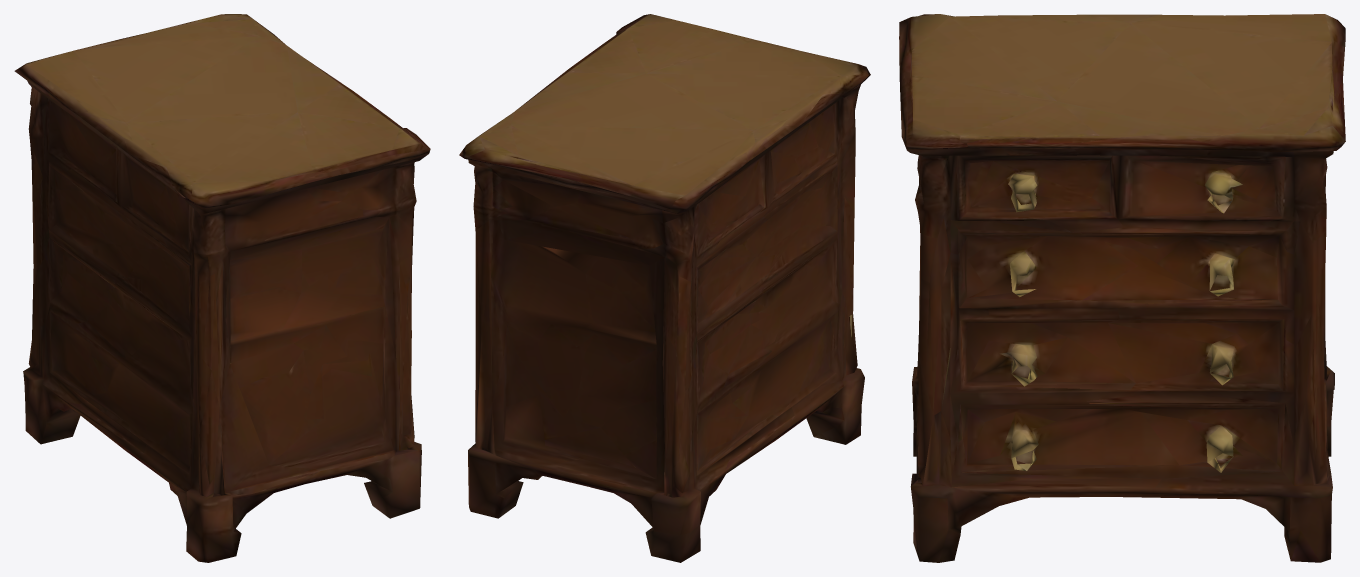
File: comoda.glb
The picture shows the model from 3 angles, left to right: view 1: azimuth 30°, elevation 25°; view 2: azimuth 150°, elevation 25°; view 3: azimuth 270°, elevation 25°; orthographic projection. The views are drawn at different scales.
Visible parts, largest first — view 1: tripo_node_ef1d03ea-5949-41bc-9e4d-741030f65ba9; view 2: tripo_node_ef1d03ea-5949-41bc-9e4d-741030f65ba9; view 3: tripo_node_ef1d03ea-5949-41bc-9e4d-741030f65ba9.
Part boxes in pixels (box(x1,y1,x2,y2)): tripo_node_ef1d03ea-5949-41bc-9e4d-741030f65ba9: box(14, 14, 430, 562); tripo_node_ef1d03ea-5949-41bc-9e4d-741030f65ba9: box(459, 14, 870, 562); tripo_node_ef1d03ea-5949-41bc-9e4d-741030f65ba9: box(899, 14, 1345, 562).
Size of the model in its own units: 0.6701 by 1 by 0.9524.
1 material, 1 textured.
